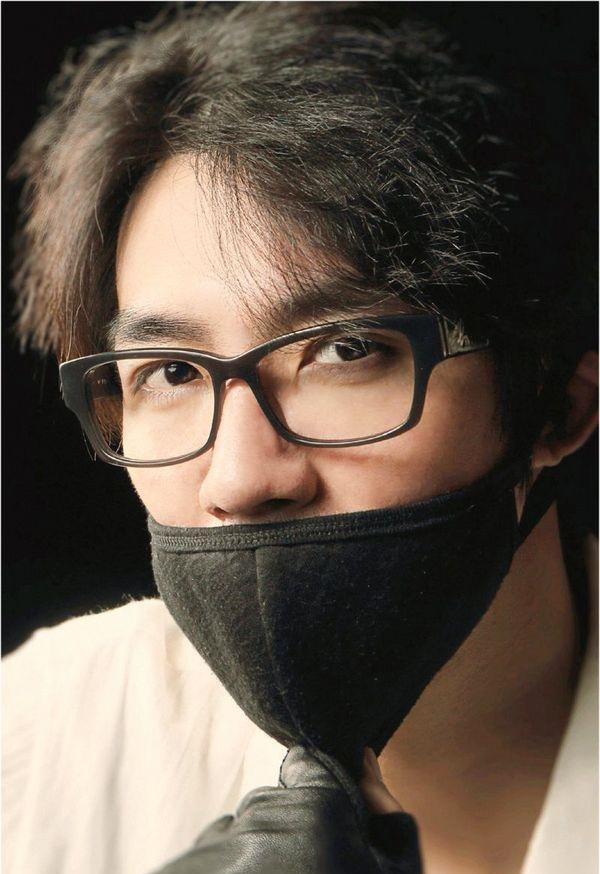WRONG: (86, 278, 529, 721)
